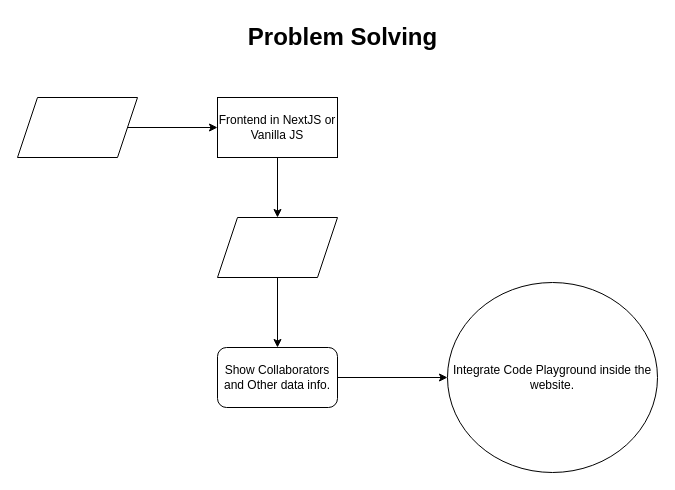
This 675x490 diagram has some shape labels left out. The shapes that lost their labels are listed below. From the top down, each one's centre as x and y in pixels, then its label:
the point at 77,127: Github Repo
the point at 277,247: Update files in git and frontend.
